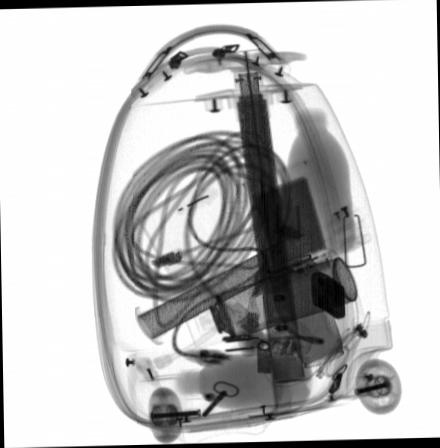Lighter: (309, 270, 345, 318)
Powerbank: (244, 157, 342, 295)
Sprayer: (182, 256, 356, 346)
